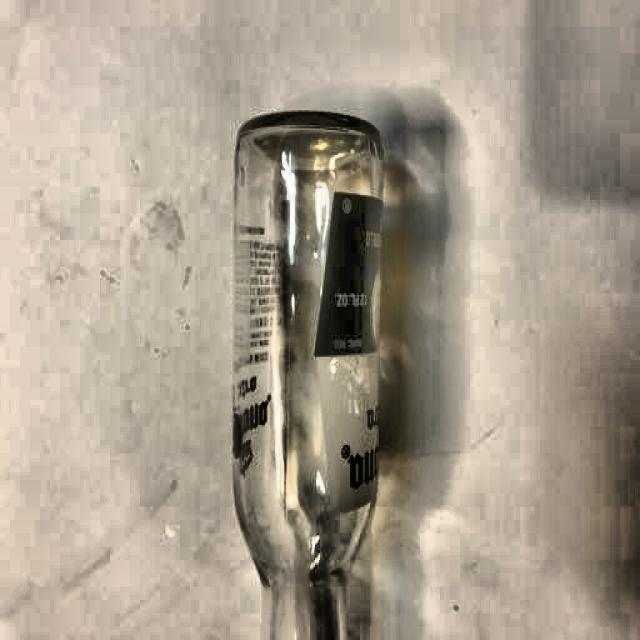glass: (227, 110, 391, 640)
